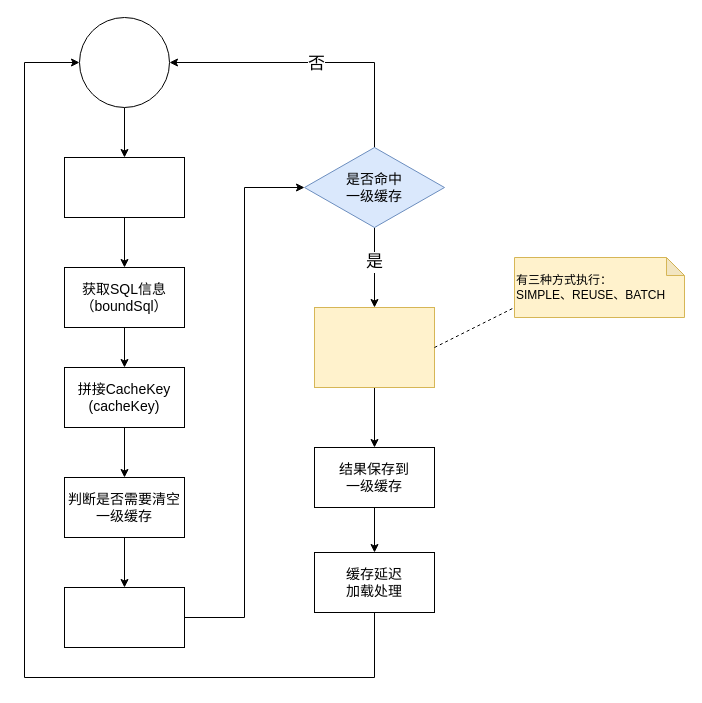
Some shapes in this 702 by 703 pixel diagram are drawn without their labels. The shapes that lost their labels are listed below. From the top down, each one's box as (x1, y1, x2, y2) in pixels, then its label:
(78, 16, 170, 108): SqlSession 执行SQL
(64, 156, 184, 218): Executor.query
(314, 306, 434, 388): 查询数据库 获取结果集 (ResultSet)
(64, 586, 184, 648): 根据cacheKey 查找一级缓存
